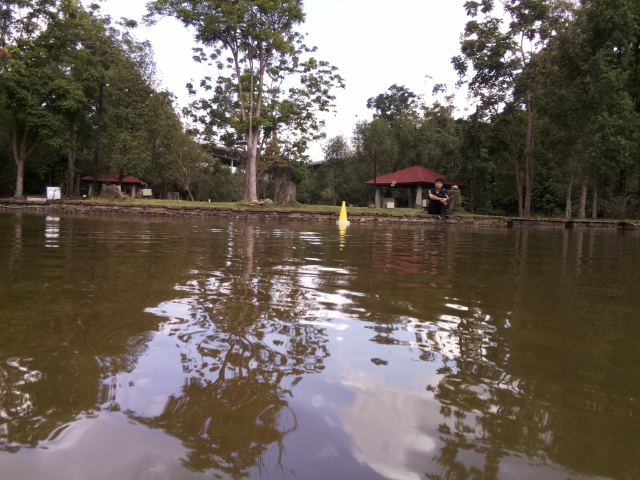checkpoint: (334, 200, 354, 225)
